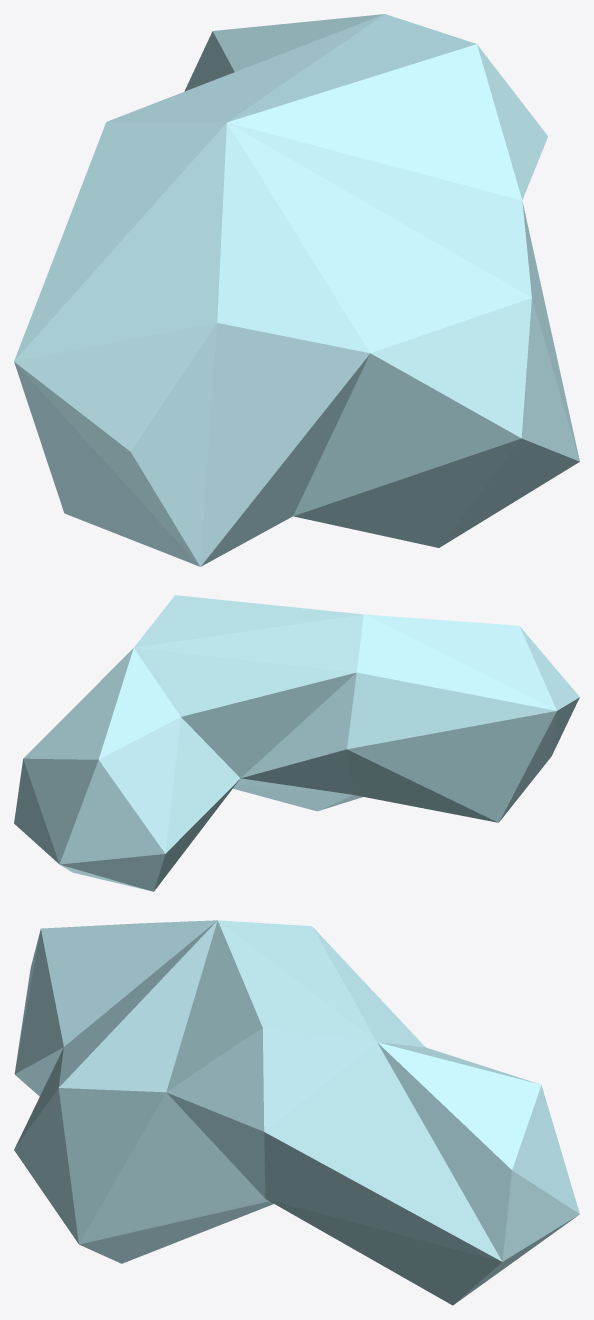
File: Cloud_12.glb
The picture shows the model from 3 angles, top to bottom: view 1: azimuth 30°, elevation 25°; view 2: azimuth 150°, elevation 25°; view 3: azimuth 270°, elevation 25°; orthographic projection. The views are drawn at different scales.
Visible parts, largest first — view 1: Cloud_12; view 2: Cloud_12; view 3: Cloud_12.
Part boxes in pixels (x1=…): Cloud_12: x1=14, y1=14, x2=579, y2=566; Cloud_12: x1=14, y1=595, x2=579, y2=891; Cloud_12: x1=14, y1=920, x2=579, y2=1305.
Size of the model in its own units: 1.89 by 1.15 by 2.01.
